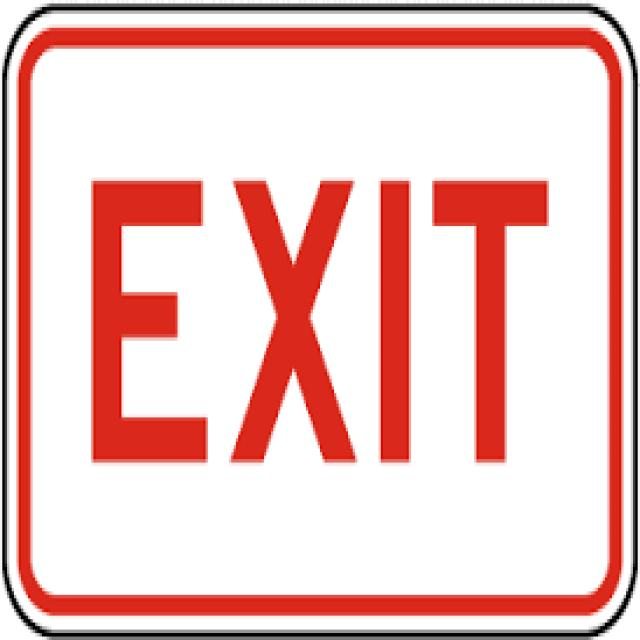exit_sign: (3, 14, 640, 616)
